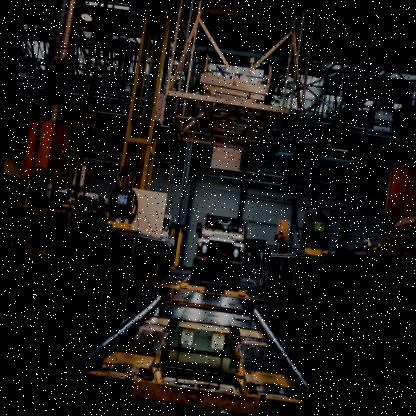Car: (187, 214, 249, 298)
